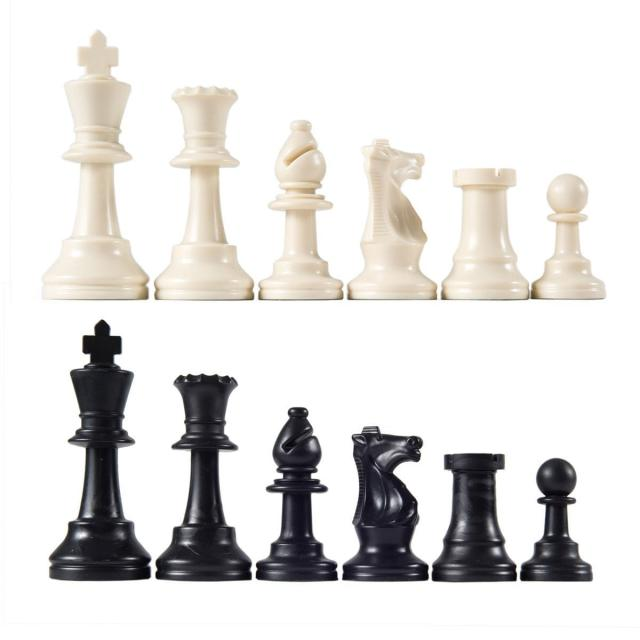black-bishop: (256, 407, 338, 582)
black-king: (49, 319, 151, 581)
black-knight: (342, 426, 429, 582)
black-pawn: (520, 457, 593, 582)
black-queen: (155, 374, 252, 582)
black-rook: (431, 452, 517, 582)
white-bishop: (258, 120, 344, 301)
white-king: (41, 29, 150, 299)
white-knight: (347, 138, 438, 300)
white-pawn: (531, 173, 606, 300)
white-queen: (153, 86, 254, 300)
white-rook: (440, 168, 530, 300)
